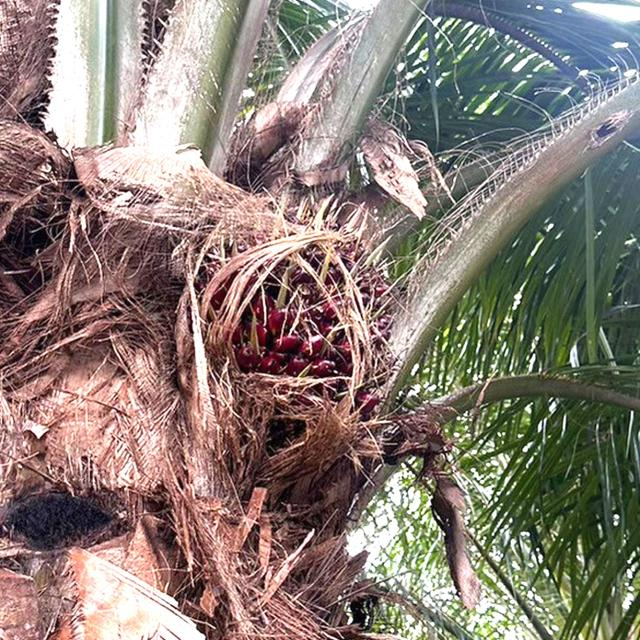ripe: (198, 180, 414, 416)
